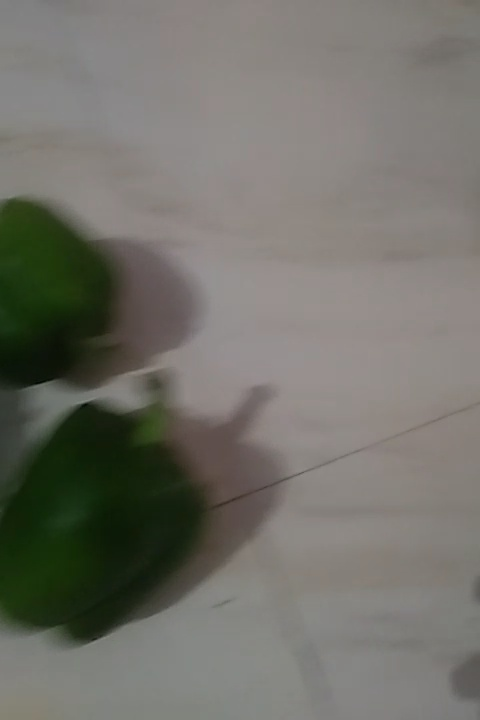capsicum: (2, 397, 192, 636), (1, 200, 125, 390)
